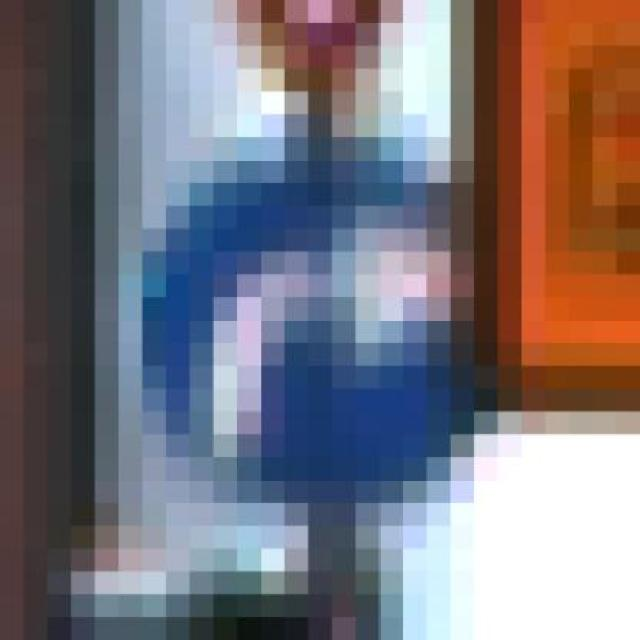Turn right ahead: (70, 114, 522, 526)
